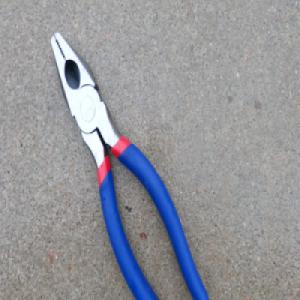Pliers: (48, 30, 213, 300)
